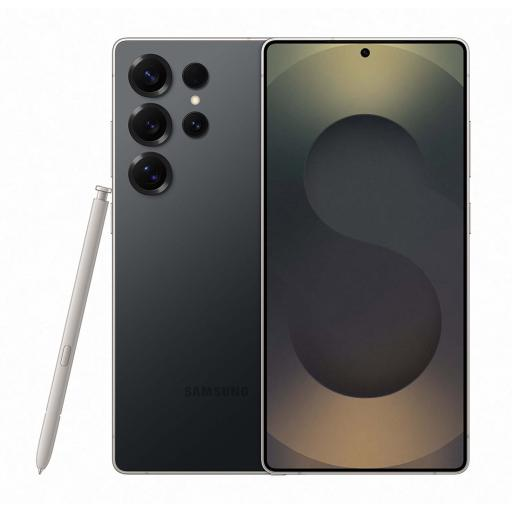phone: (259, 39, 471, 477)
